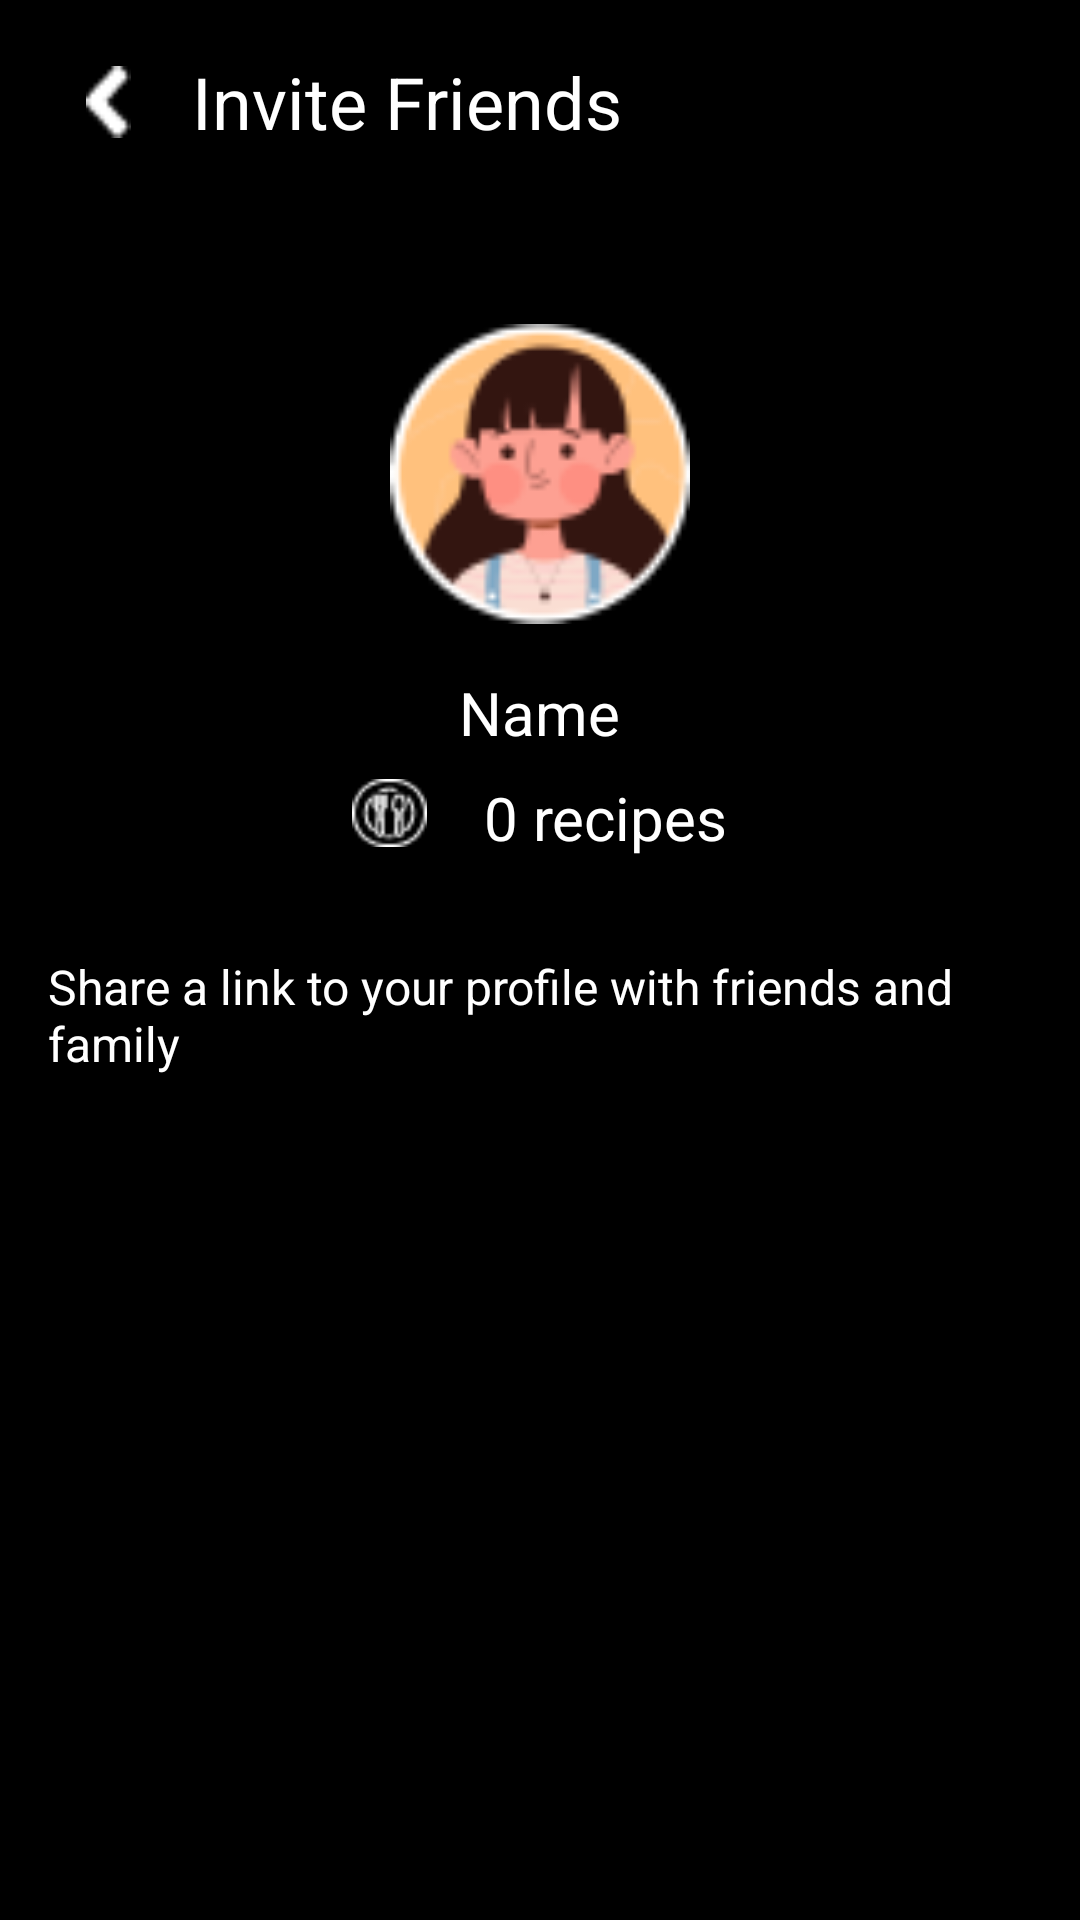

Icon click points for this 1080w x 1920h phone screenshot, format (x,y):
Back: (108,102)
profile: (540,474)
Recipe Icon: (389,813)
